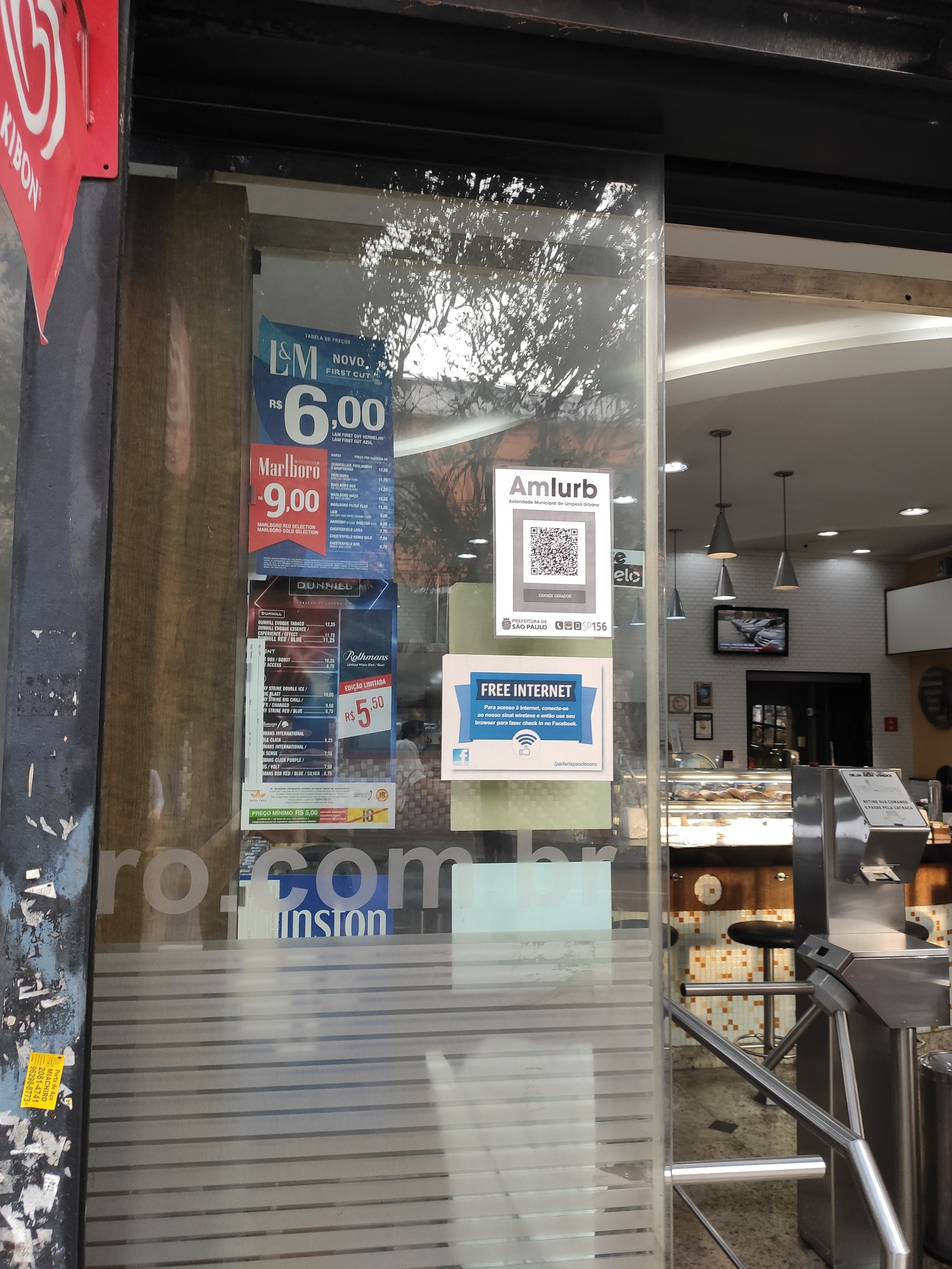QR-CODE: (531, 527, 578, 576)
